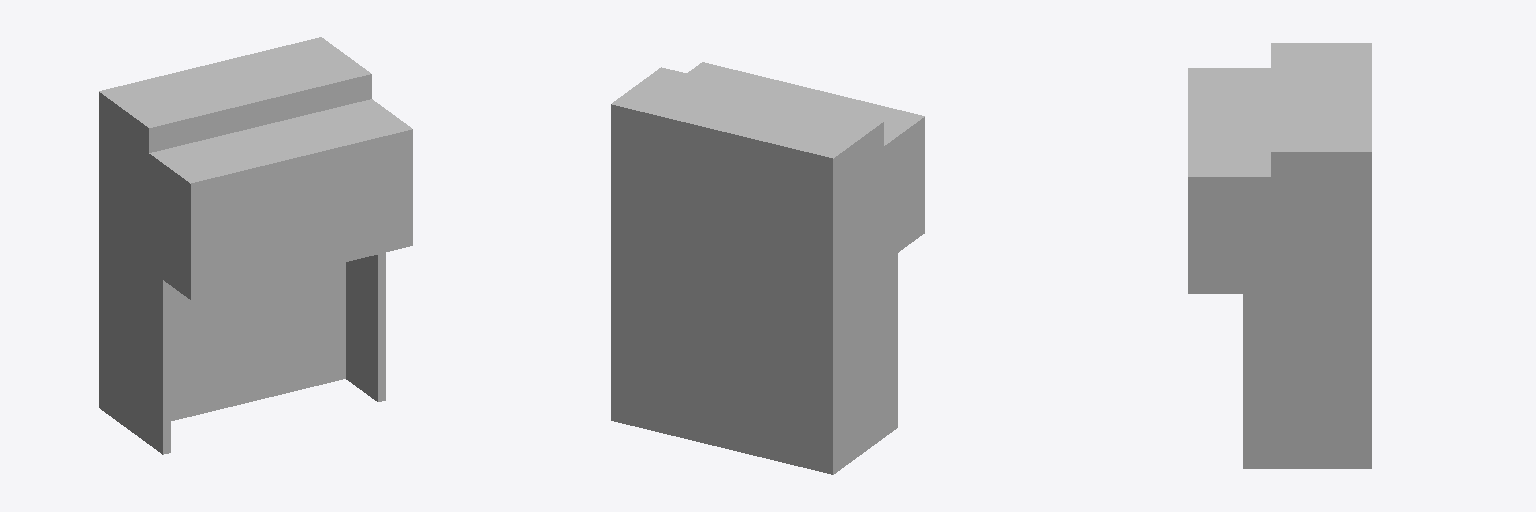
Rendered from transporter_chassis.obj.
3 views of the same model, side by side, from view 1: azimuth 30°, elevation 25°; view 2: azimuth 150°, elevation 25°; view 3: azimuth 270°, elevation 25° (orthographic).
Parts seen in each view (by area): view 1: Import.001; view 2: Import.001; view 3: Import.001.
Part boxes in pixels (x1,y1,x2,y2): Import.001: (99,37,412,454); Import.001: (611,62,924,474); Import.001: (1188,43,1371,468).
Bounding box in the file's own units: 1.75 × 2.38 × 1.25.